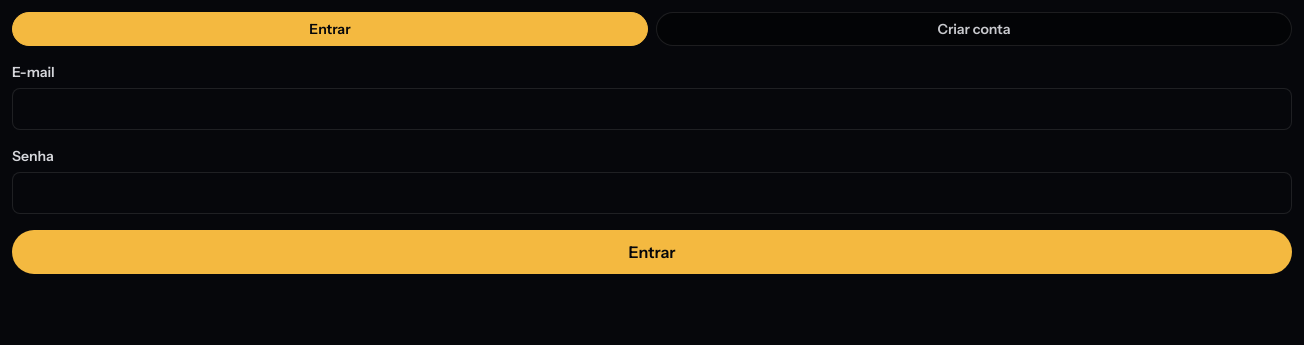
Test case: AuthForm › o erro do Entrar some ao trocar para Criar conta
Step 1. Type "a@b.com" into the field labelled "E-mail" → coordinates (652, 109), box [12,88,1292,130]
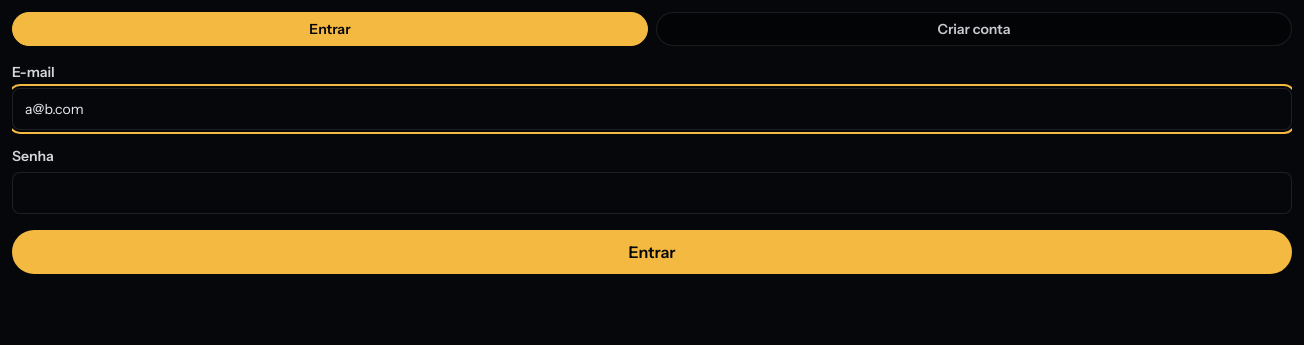
Step 2. Type "errada1" into the password field labelled "Senha" → coordinates (652, 193), box [12,172,1292,214]
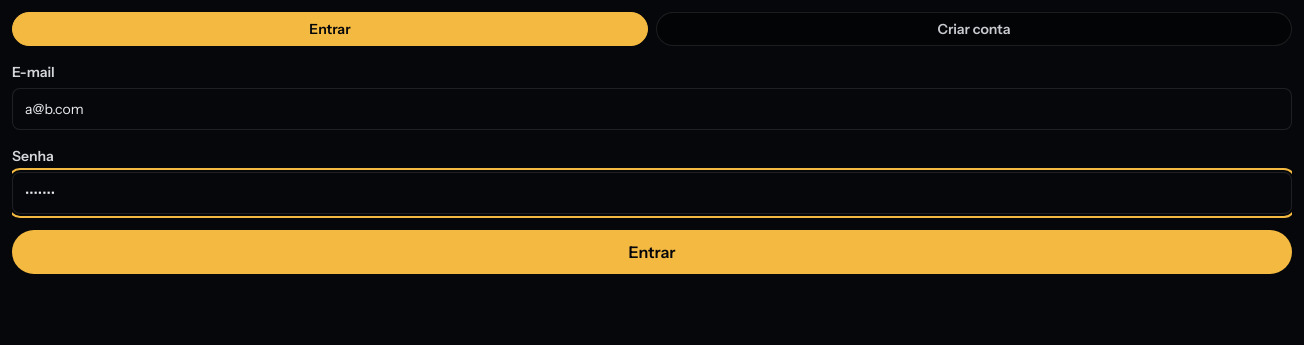
Step 3. Click the button "Entrar" below "Senha" → coordinates (652, 252), box [12,230,1292,274]
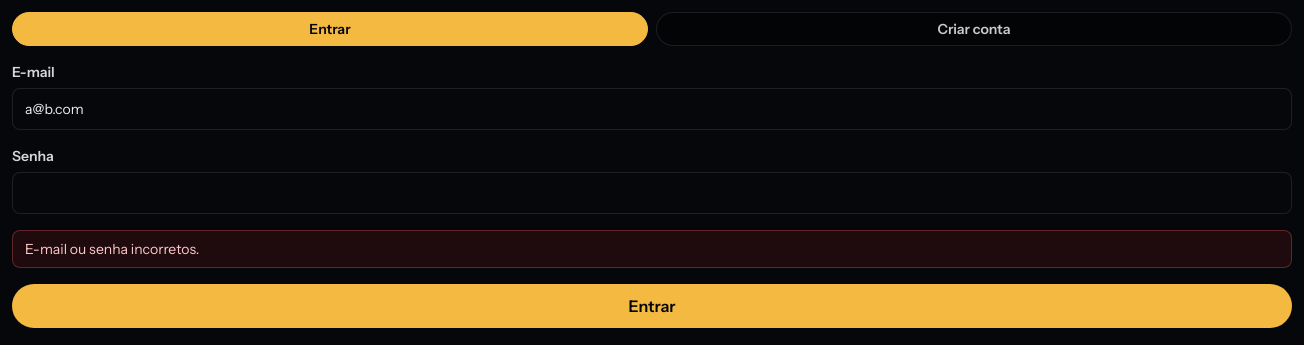
Check: the message reads "E-mail ou senha incorretos.", box [25,240,199,258]
Step 4. Click the button "Criar conta" → coordinates (974, 29), box [656,12,1292,46]
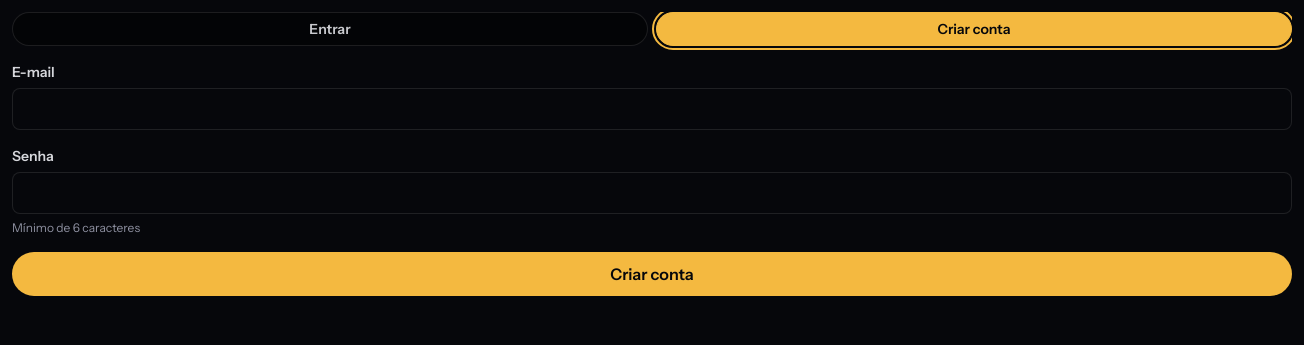
Check: the message "E-mail ou senha incorretos." is gone
